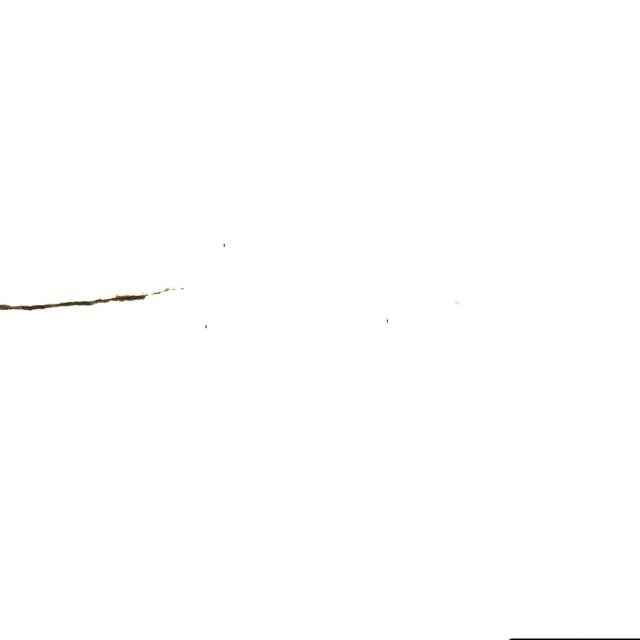crack: (0, 278, 188, 320)
